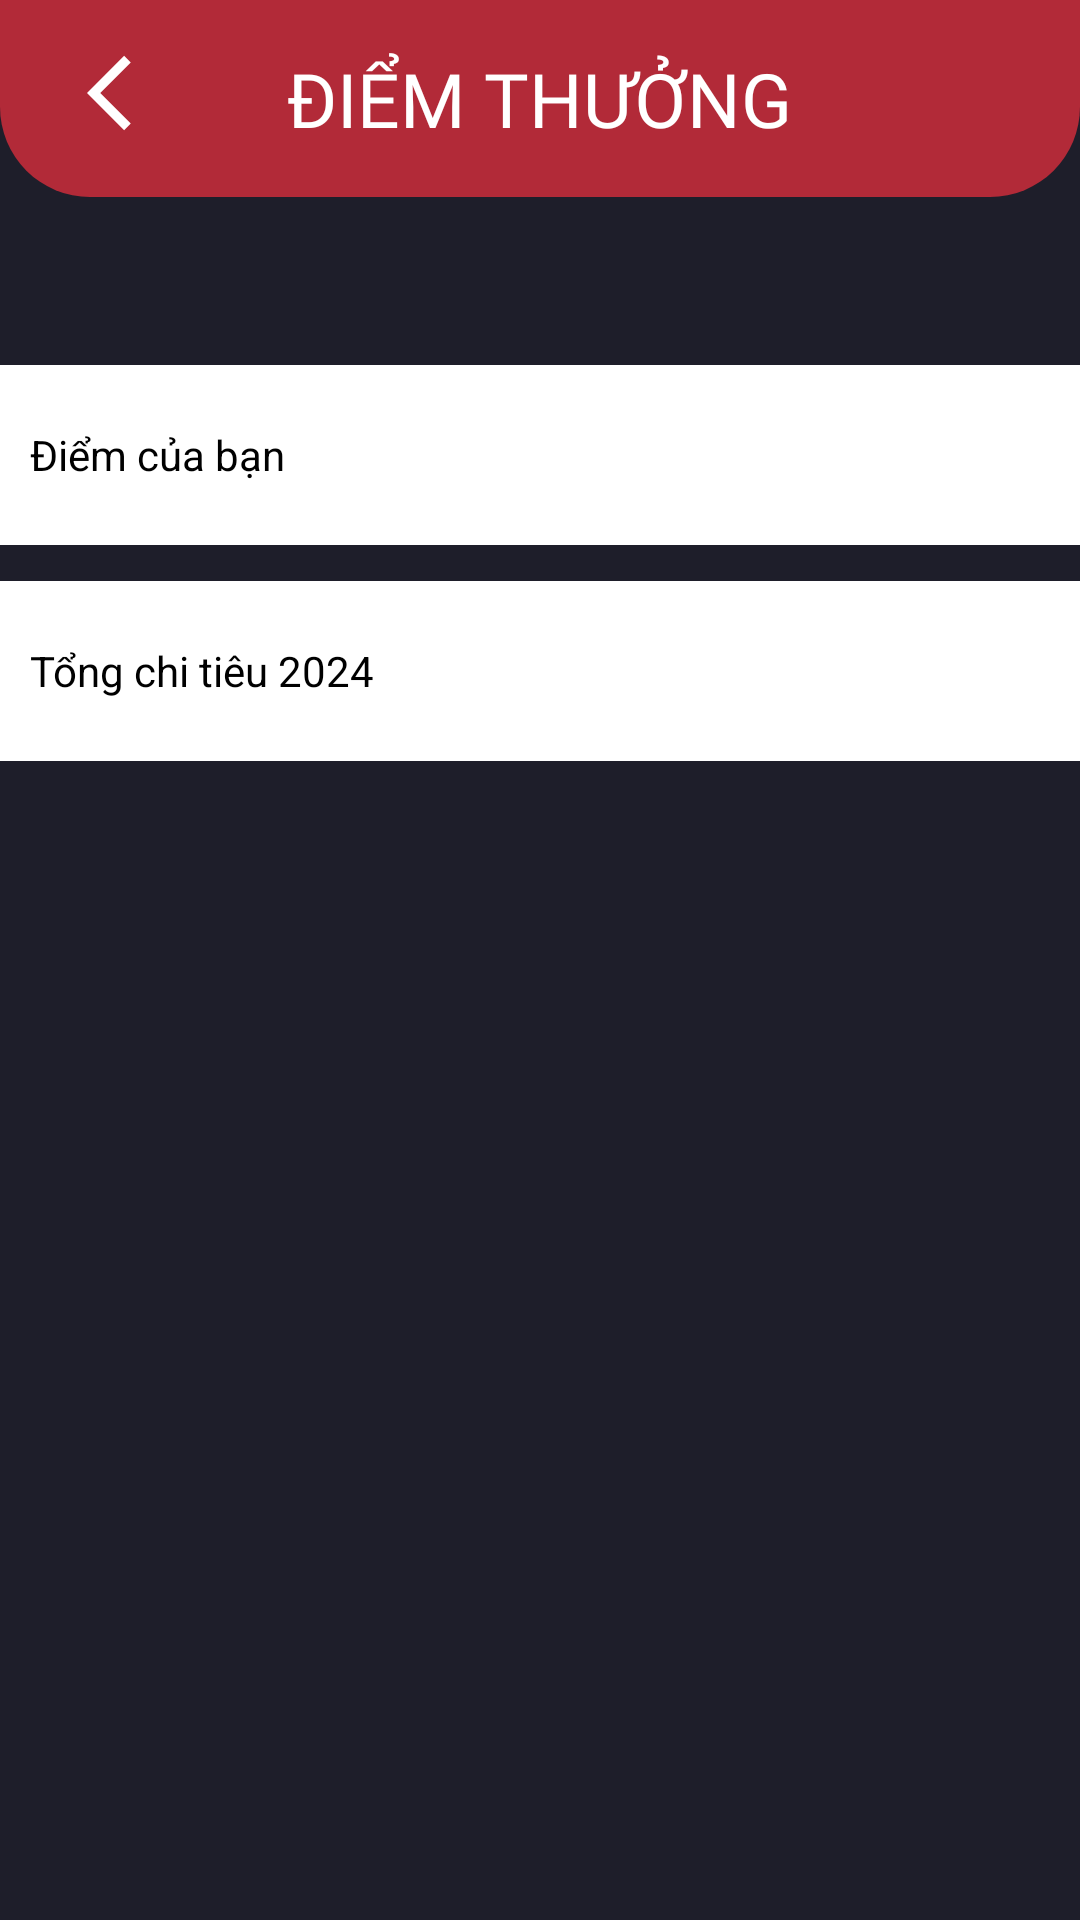

Icons on this 1080px×1920px Android screen, each with the point to tap as (x=x, y=y):
back arrow: (x=109, y=93)
